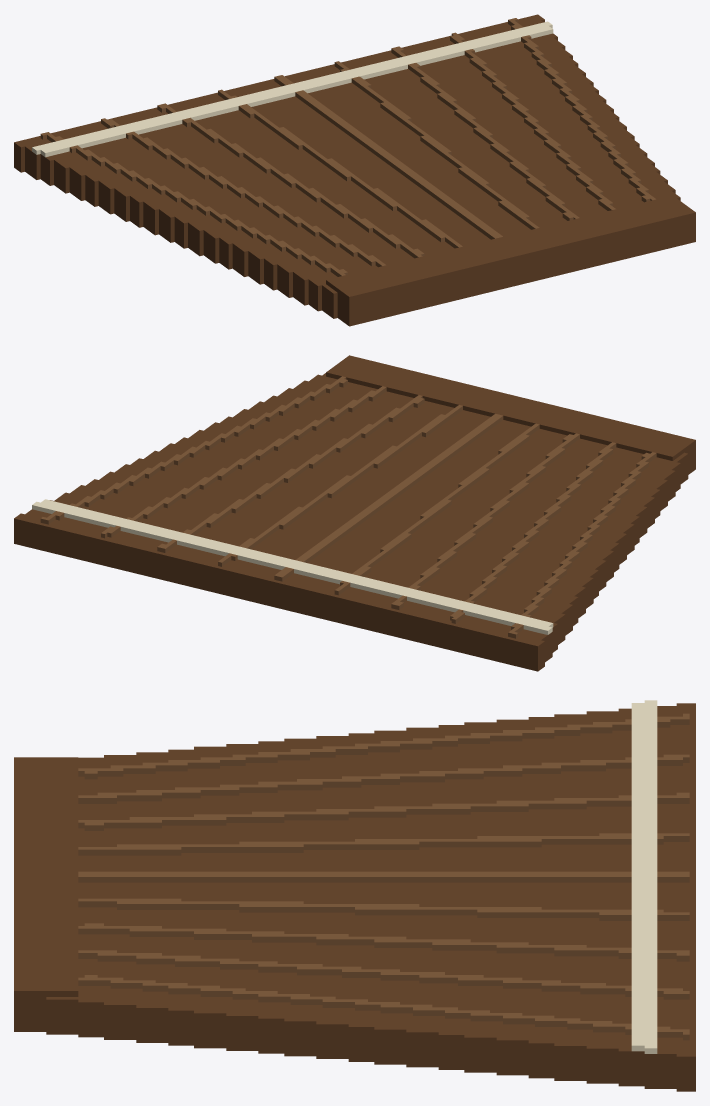
The model's file is skirt_long.glb.
3 renders of one model, top to bottom at view 1: azimuth 30°, elevation 25°; view 2: azimuth 150°, elevation 25°; view 3: azimuth 270°, elevation 25°, orthographic. The views are drawn at different scales.
Parts seen in each view (by area): view 1: skirt_long:compound; view 2: skirt_long:compound; view 3: skirt_long:compound.
Part boxes in pixels (x1,y1,x2,y2): skirt_long:compound: [14, 14, 695, 326]; skirt_long:compound: [14, 355, 695, 671]; skirt_long:compound: [14, 700, 695, 1091].
Bounding box in the file's own units: 0.52 × 0.028 × 0.424.
